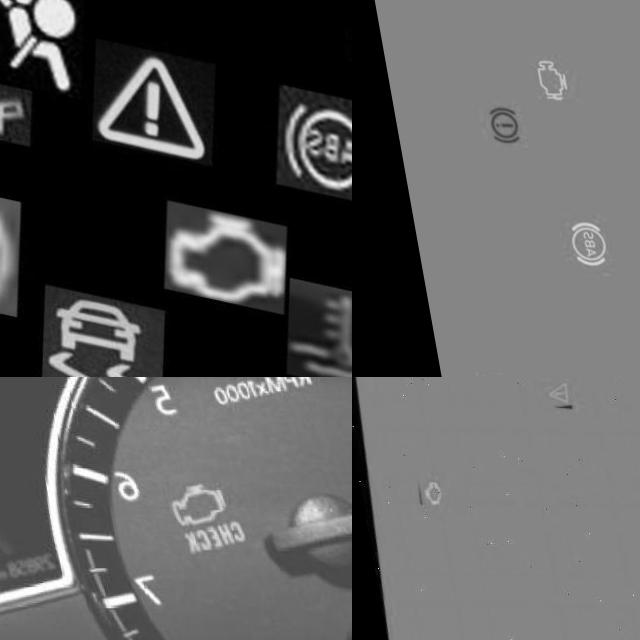Central Warning lamp: (68, 37, 223, 165)
Engine cooling system: (254, 275, 352, 377)
